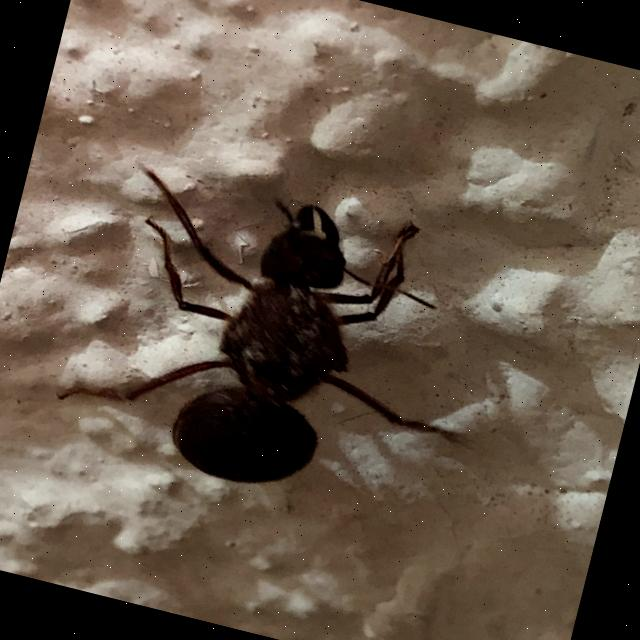Alive-Female-Dealate: (46, 146, 522, 537)
